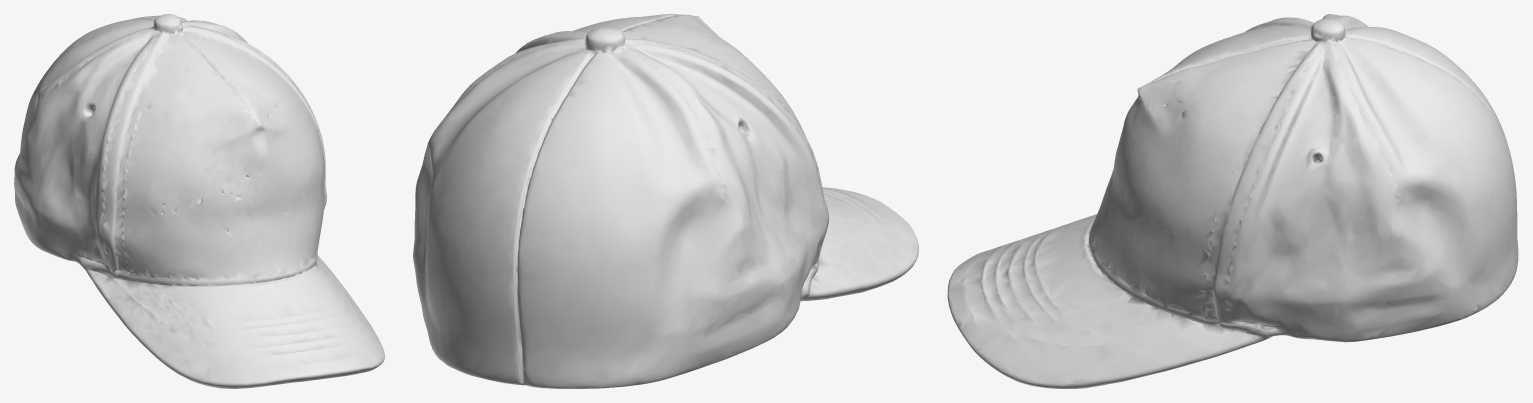
3 renders of one model, left to right at view 1: azimuth 30°, elevation 25°; view 2: azimuth 150°, elevation 25°; view 3: azimuth 270°, elevation 25°, orthographic. The views are drawn at different scales.
Visible parts, largest first — view 1: tripo_node_119fdcdf-bd4a-4b5b-b7c1-3db0f1e3edbf; view 2: tripo_node_119fdcdf-bd4a-4b5b-b7c1-3db0f1e3edbf; view 3: tripo_node_119fdcdf-bd4a-4b5b-b7c1-3db0f1e3edbf.
Part boxes in pixels (<box>): tripo_node_119fdcdf-bd4a-4b5b-b7c1-3db0f1e3edbf: <box>14,14,384,388</box>; tripo_node_119fdcdf-bd4a-4b5b-b7c1-3db0f1e3edbf: <box>413,14,918,388</box>; tripo_node_119fdcdf-bd4a-4b5b-b7c1-3db0f1e3edbf: <box>947,14,1518,388</box>.
Size of the model in its own units: 0.6972 by 0.696 by 1.14.
Materials: 1 (1 with a texture image).
